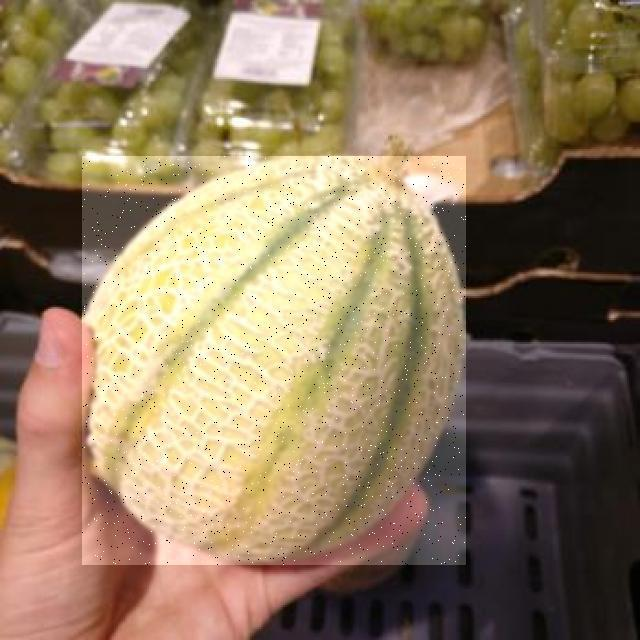Cantaloupe: (82, 156, 466, 565)
